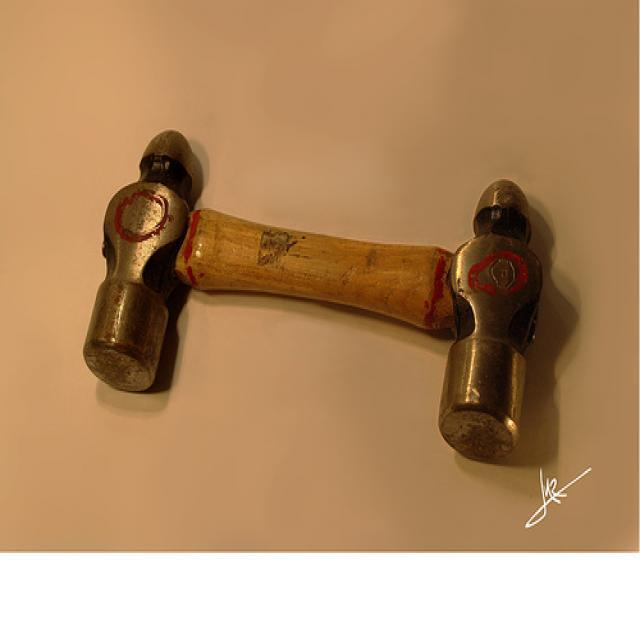hammer: (199, 160, 559, 476), (74, 110, 434, 422)
